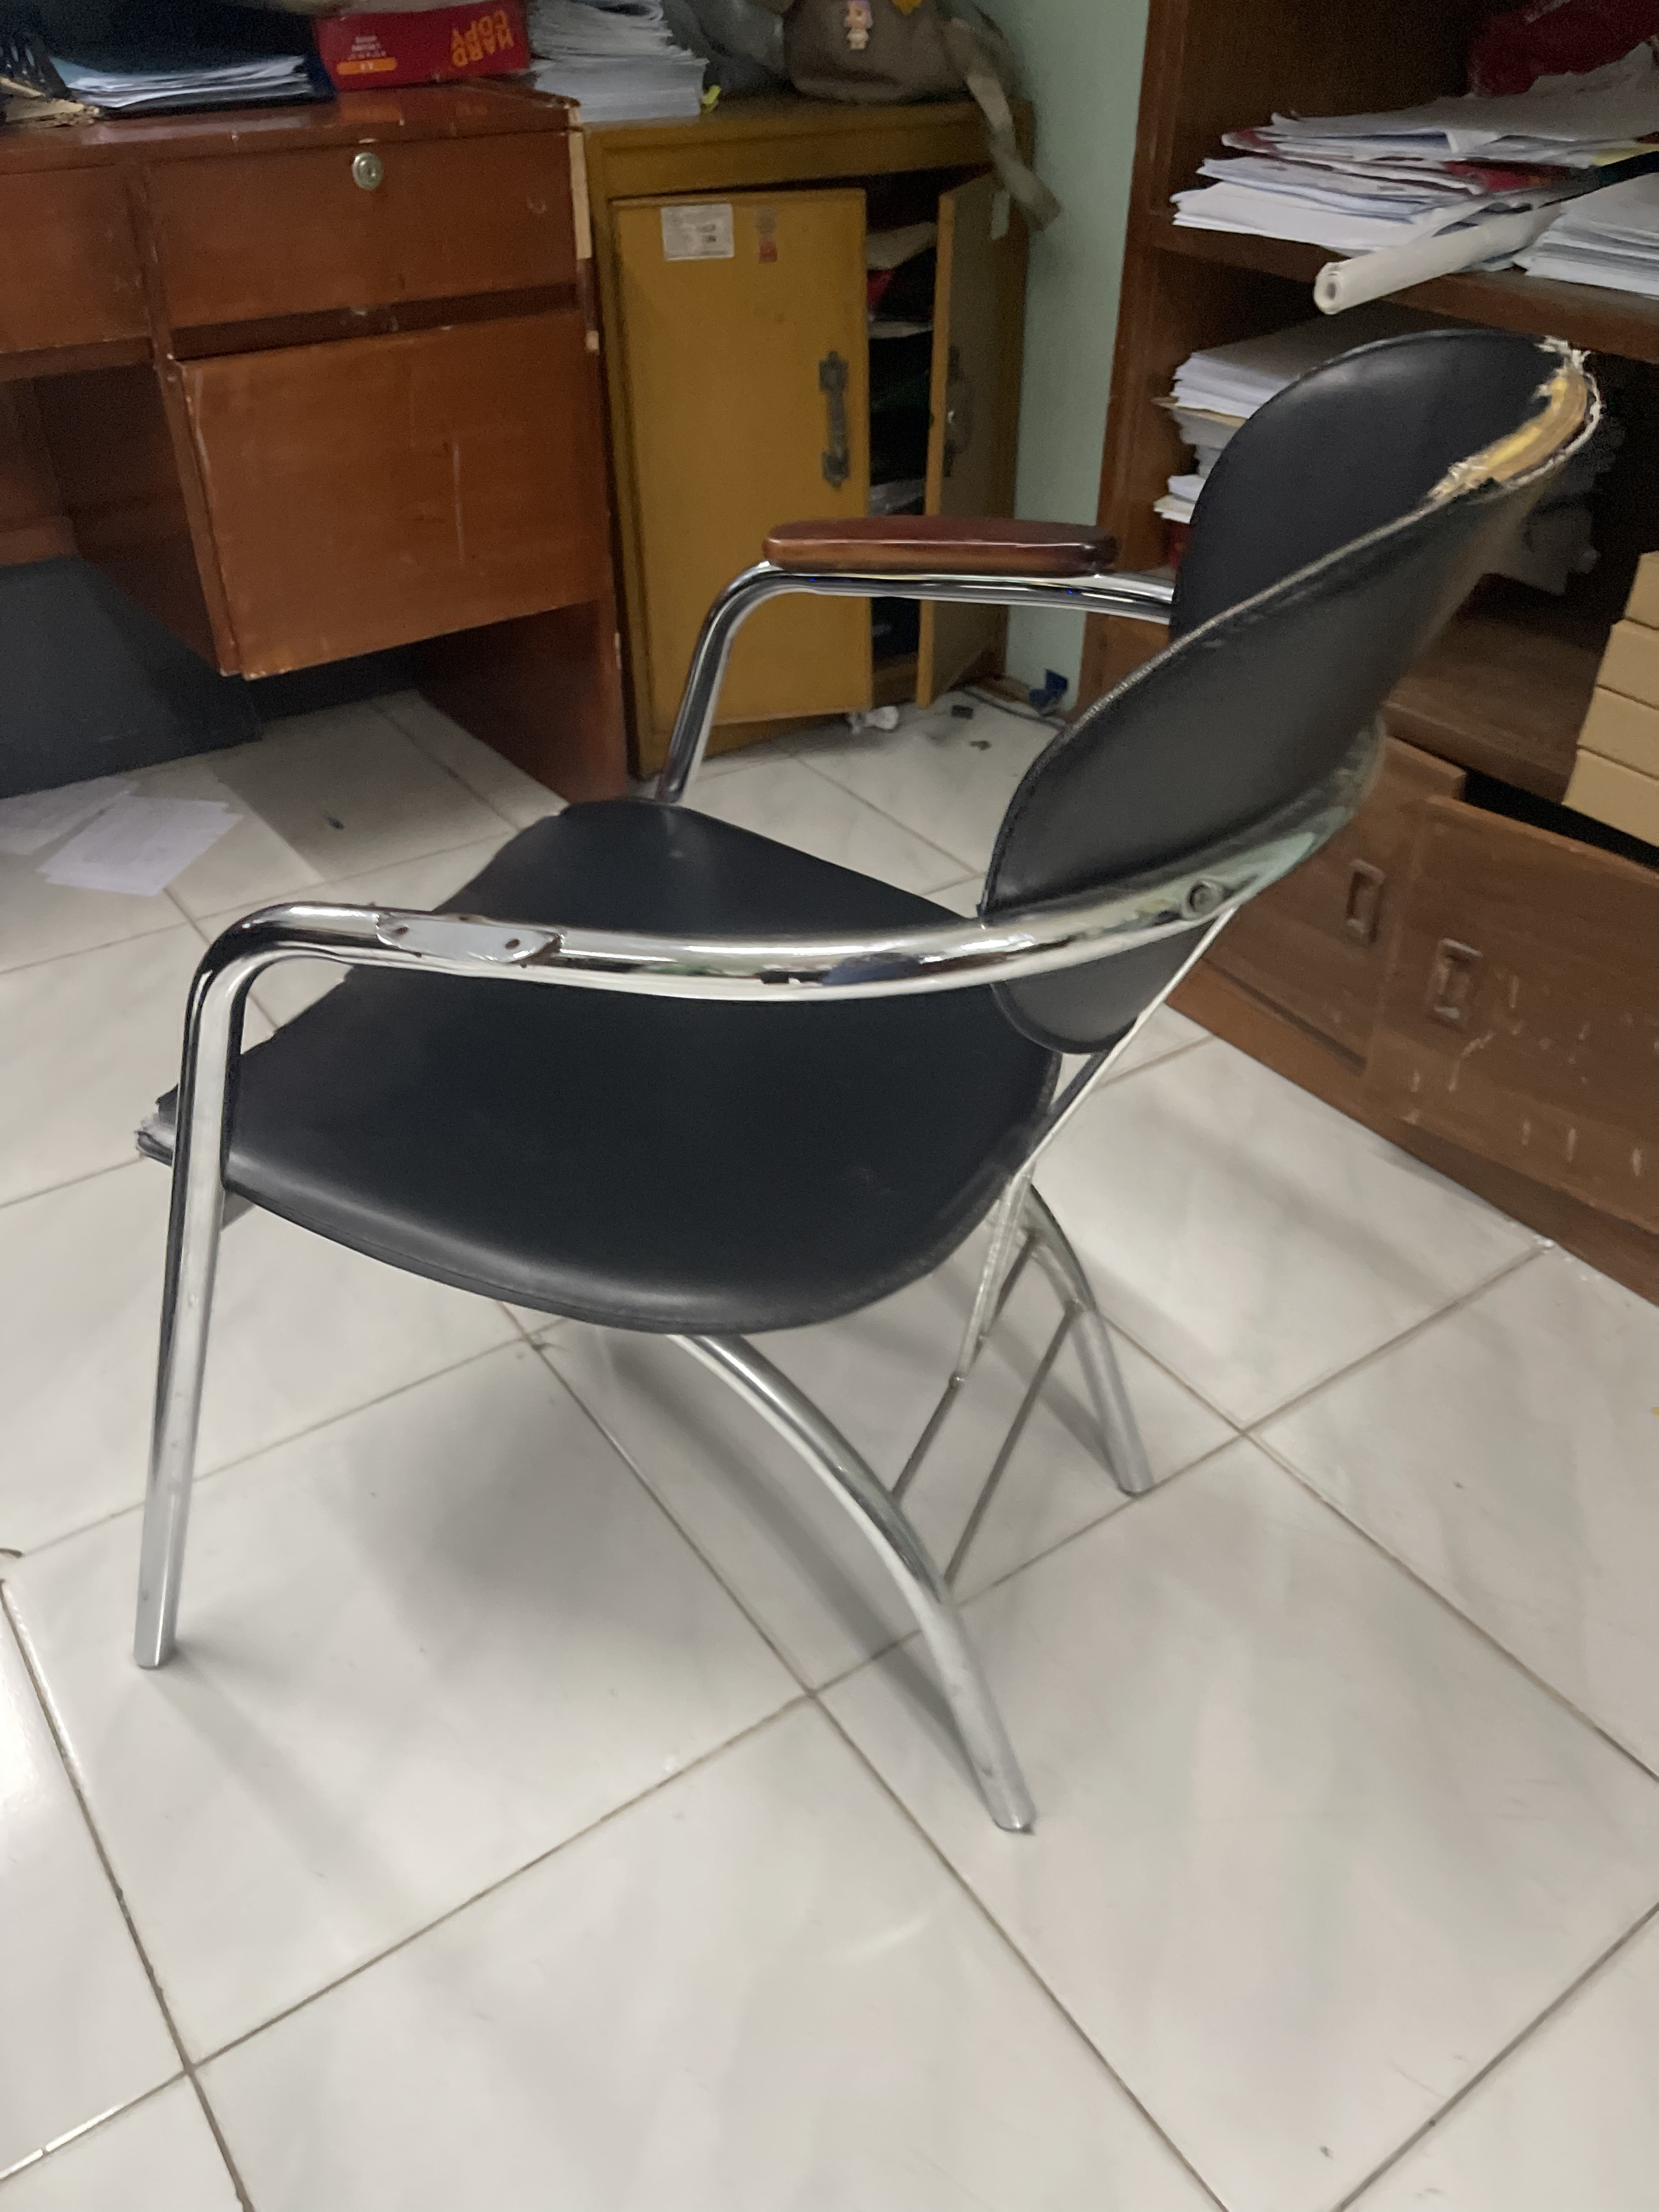chair1: (124, 322, 1607, 1855)
